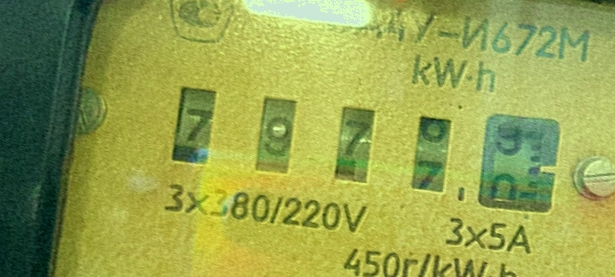0: (488, 167, 524, 208)
7: (340, 116, 375, 161), (182, 104, 216, 149), (413, 156, 447, 194)
9: (261, 112, 298, 160), (494, 120, 528, 158)
screen: (150, 62, 589, 238)
